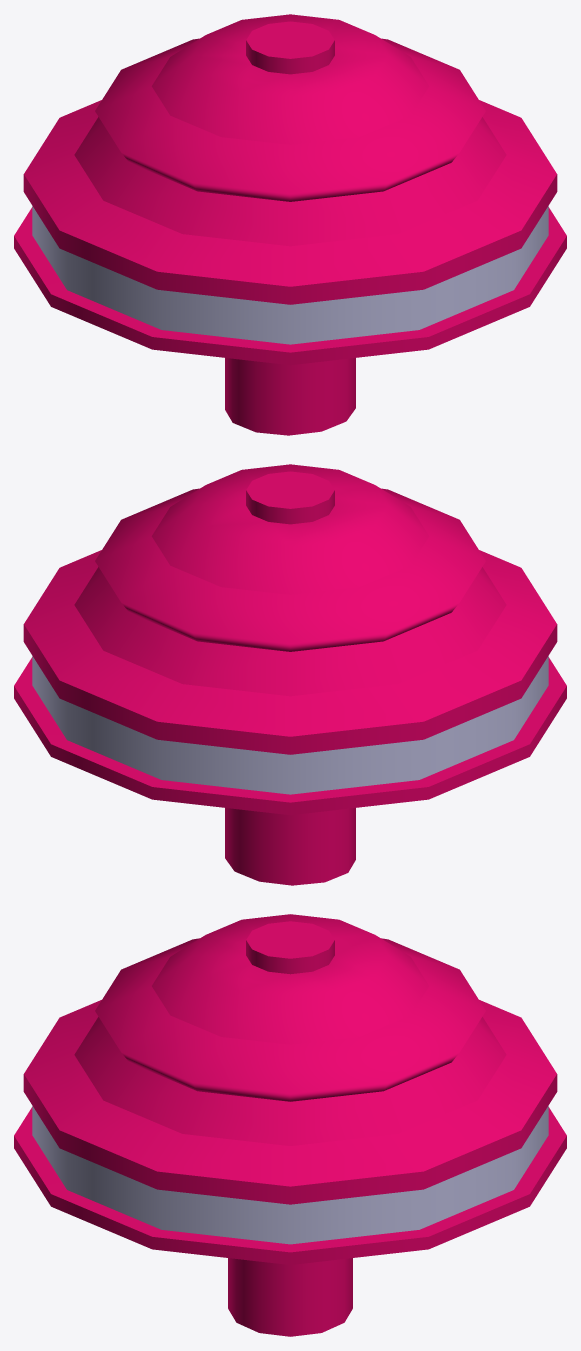
The model's file is storefront-sign-lazy-susan.fbx.
3 views of the same model, one above another, from view 1: azimuth 30°, elevation 25°; view 2: azimuth 150°, elevation 25°; view 3: azimuth 270°, elevation 25° (orthographic).
Parts seen in each view (by area): view 1: storefront_sign_lazy_susan; view 2: storefront_sign_lazy_susan; view 3: storefront_sign_lazy_susan.
Part boxes in pixels (bbox=[...]): storefront_sign_lazy_susan: bbox=[14, 14, 566, 435]; storefront_sign_lazy_susan: bbox=[14, 464, 566, 885]; storefront_sign_lazy_susan: bbox=[14, 914, 566, 1336].
Bounding box in the file's own units: 6.53 × 4.8 × 6.53.
